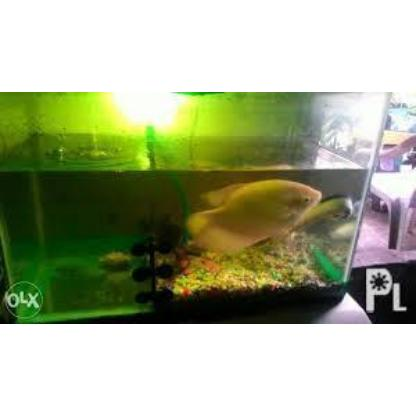gurame: (187, 176, 327, 255)
